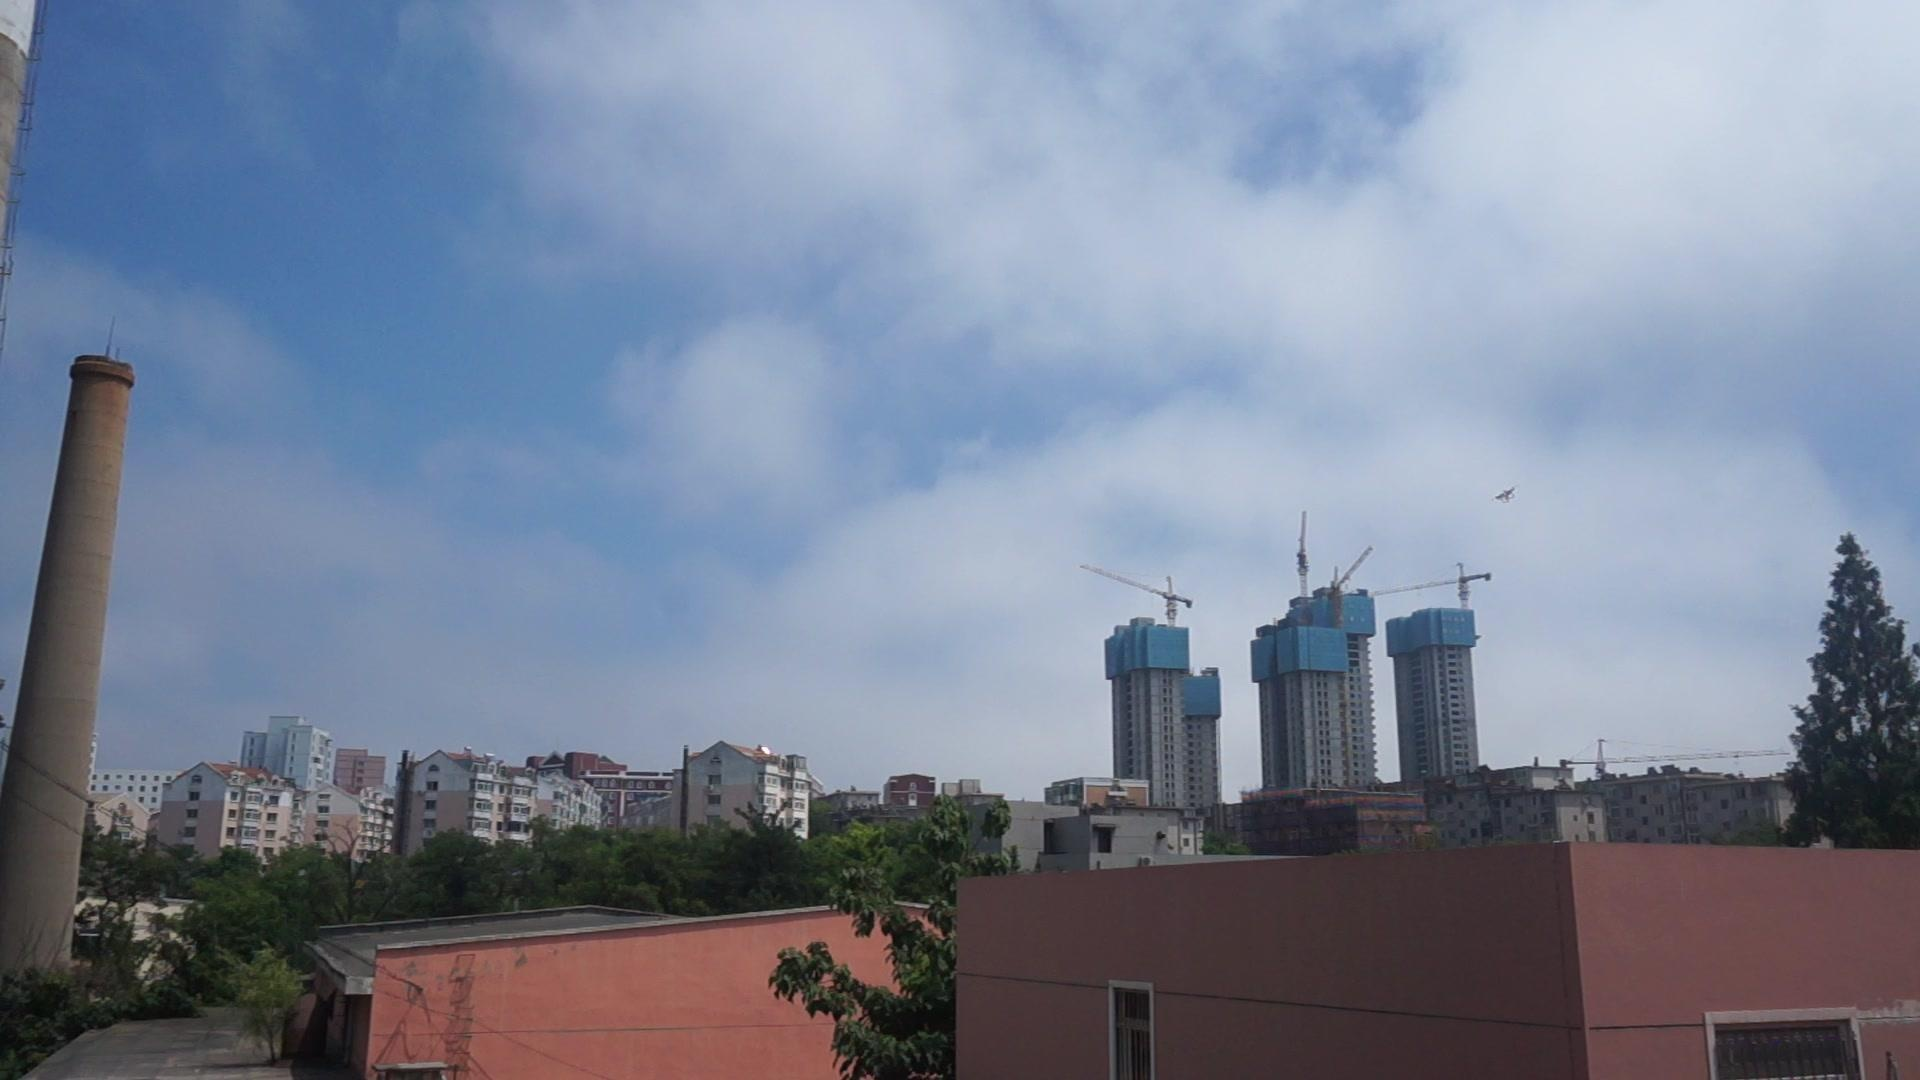UAV: (1491, 485, 1520, 504)
